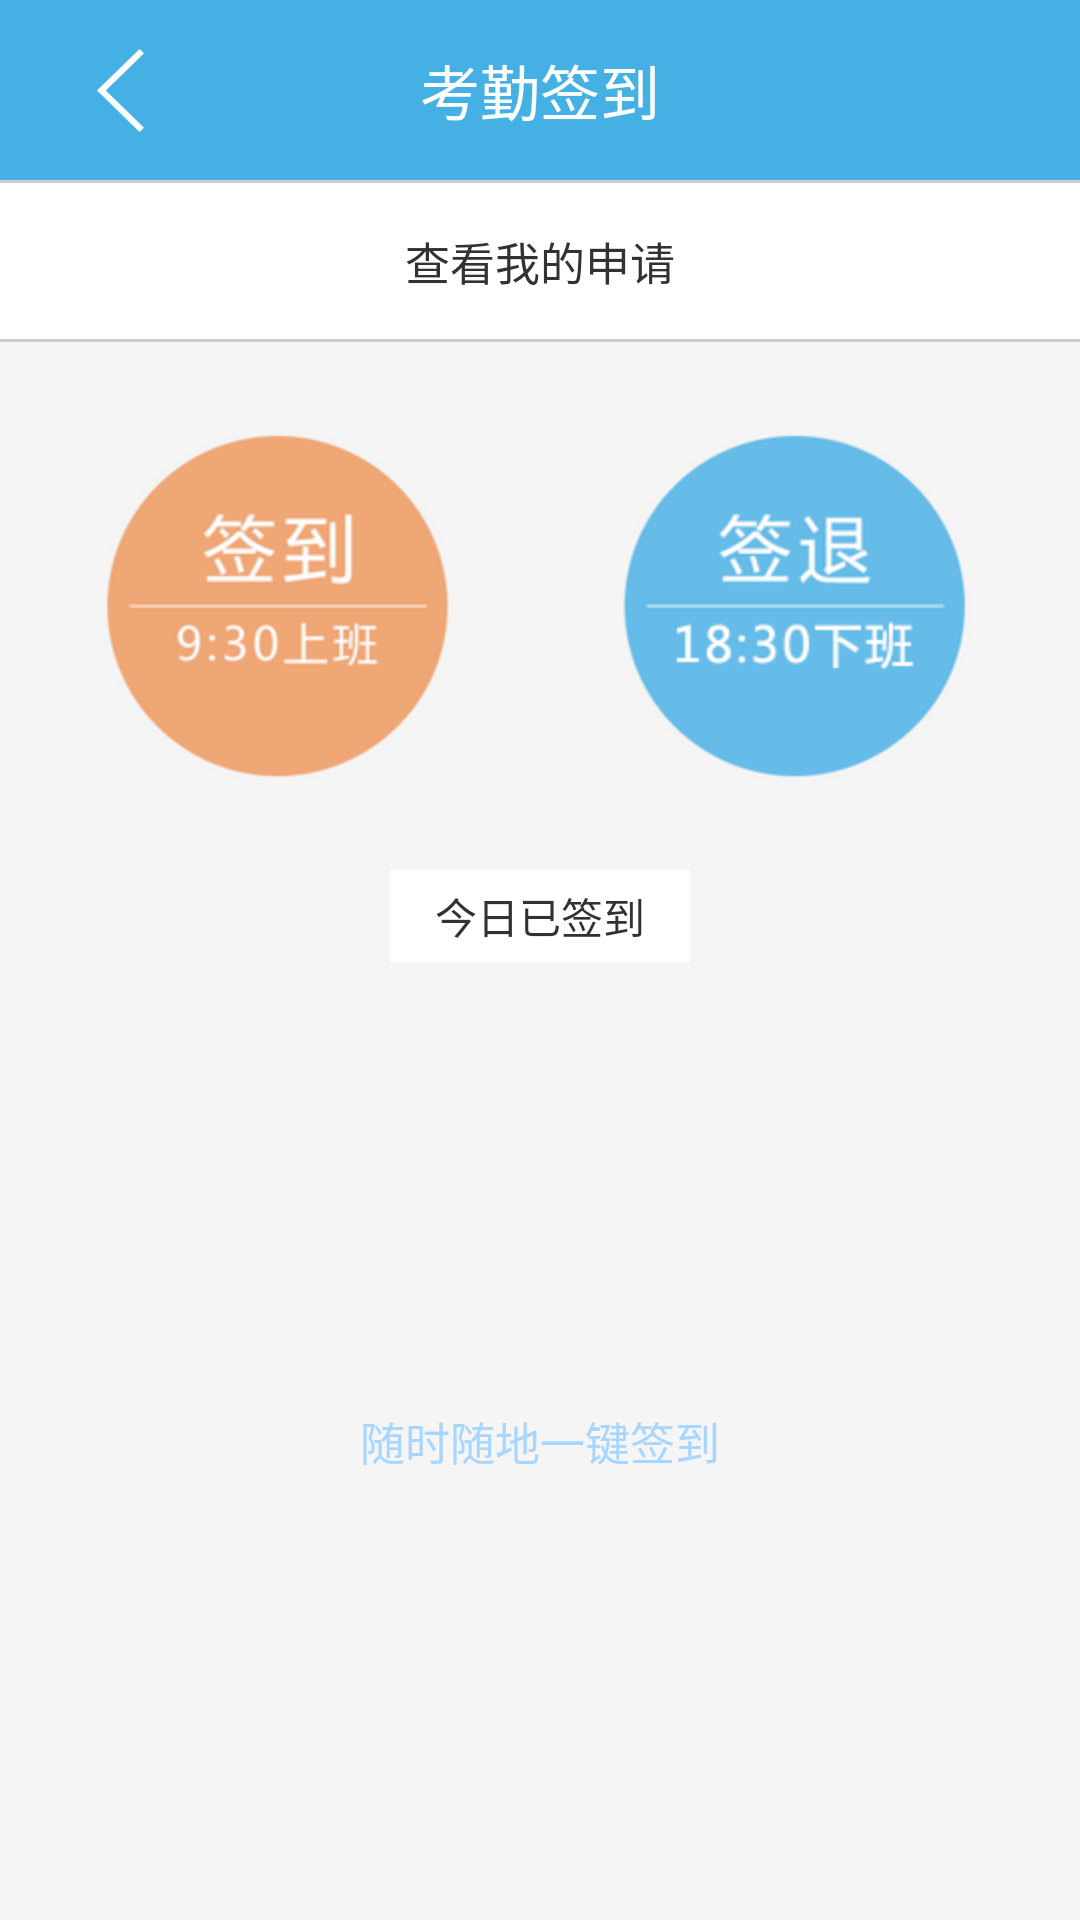

Point at icon controls on the screen. Image size 1080 x 1920, points as [x,y].
back: [120,90]
